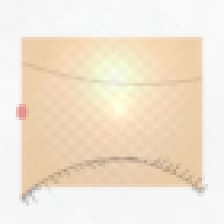hemorrhage_spot: (43, 85, 109, 138)
